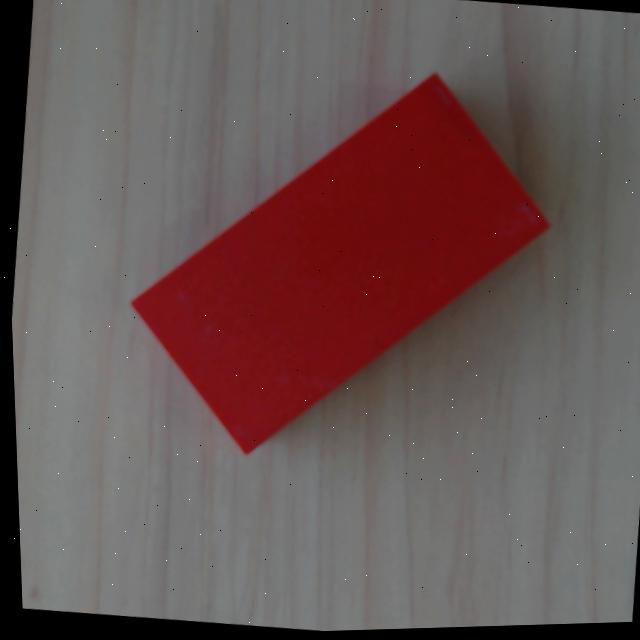Balok-Merah-1005025: (129, 72, 550, 455)
